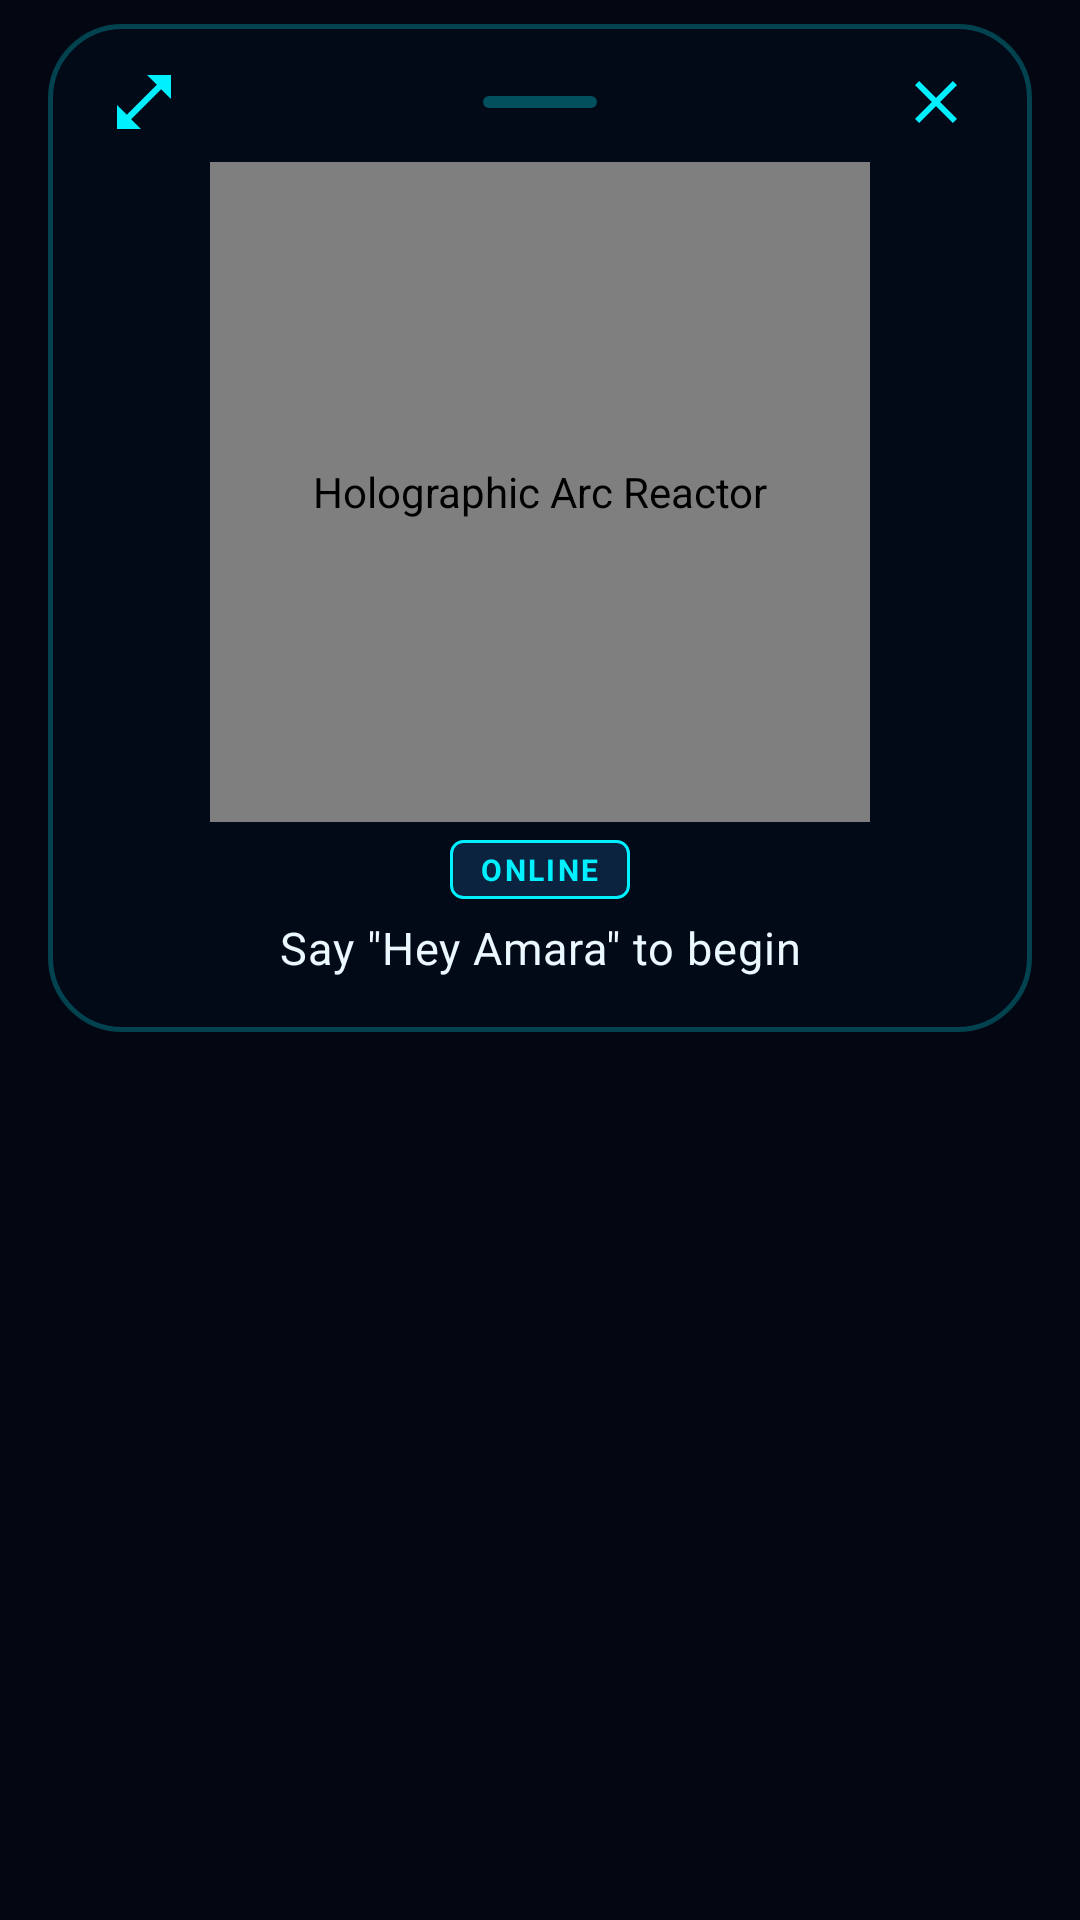

Icons on this 1080 x 1920 Android screen, each with the point to tap as [x,y]:
Close Overlay: [936,102]
Open Full App: [144,102]
